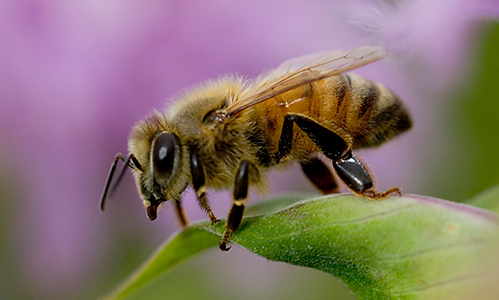Africanized Honey Bee: (91, 40, 422, 260)
